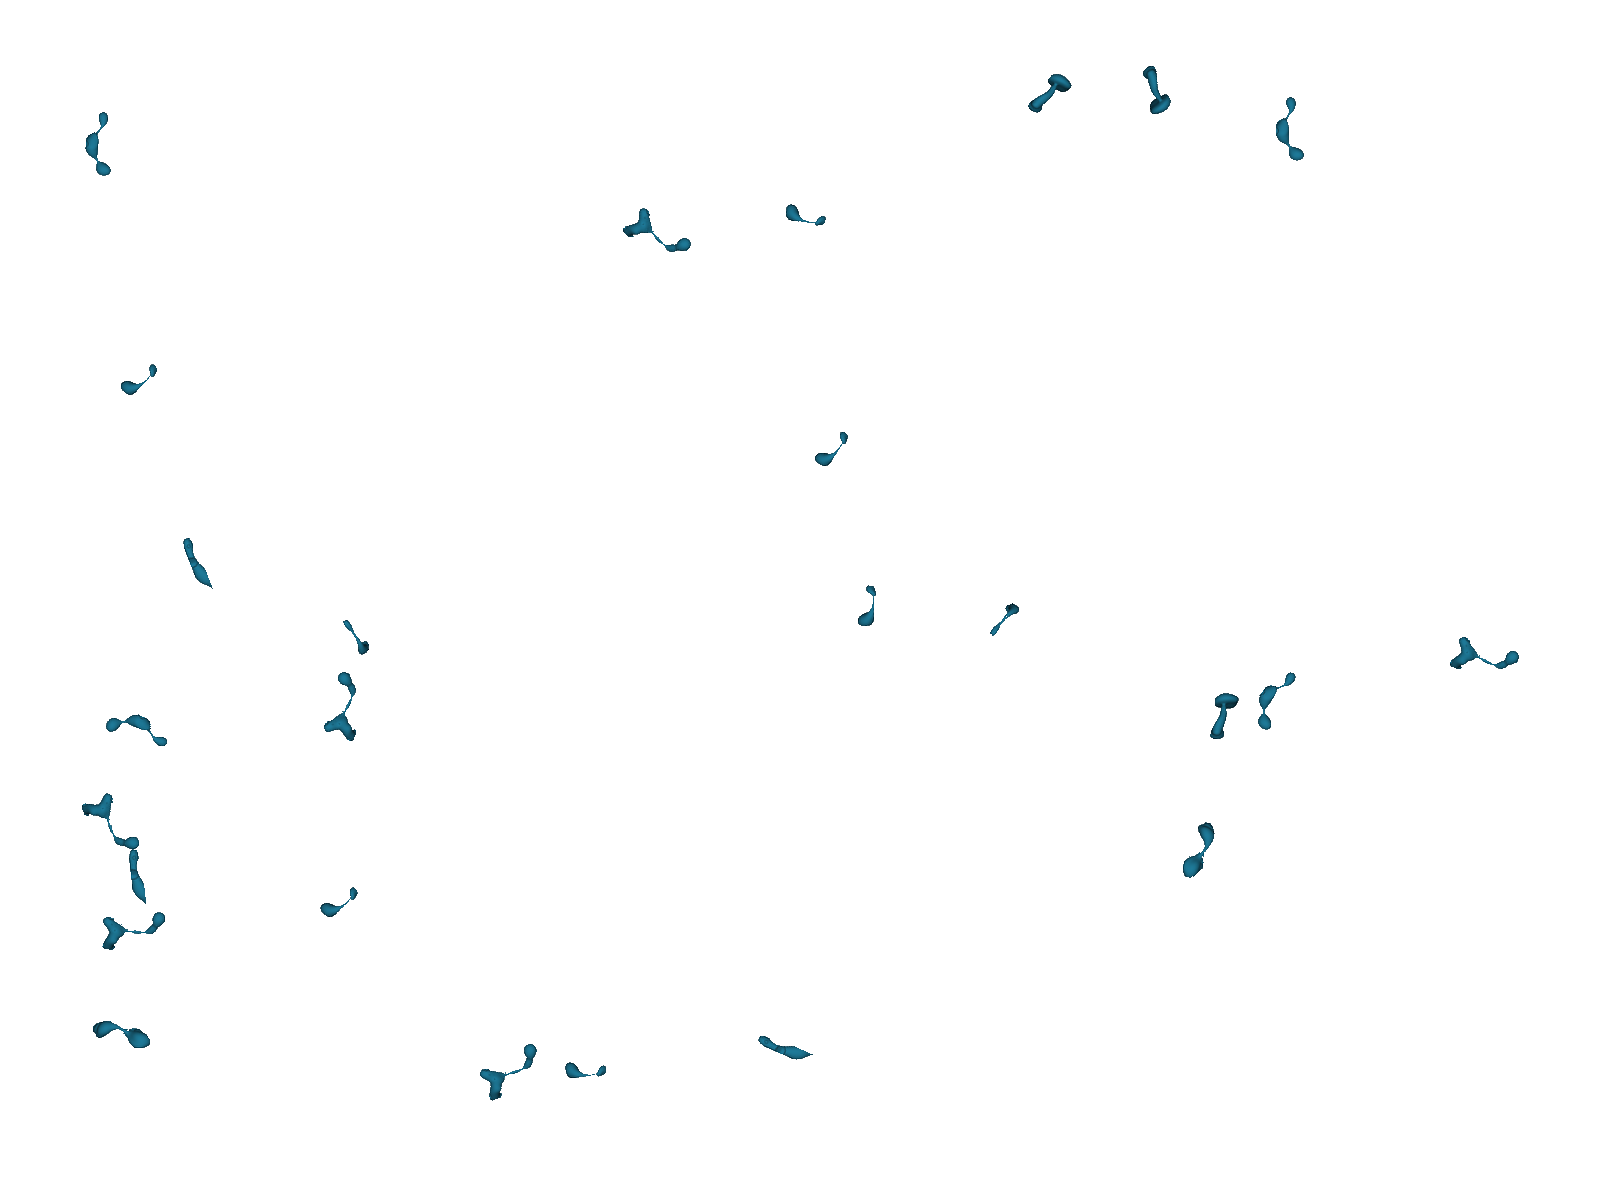Detached ligament: (617, 195, 695, 274), (1443, 623, 1523, 692), (310, 668, 379, 747), (78, 783, 144, 863), (470, 1039, 549, 1104), (1238, 662, 1306, 737), (100, 698, 175, 758), (96, 905, 168, 954), (78, 110, 118, 182), (1026, 68, 1076, 124), (1130, 62, 1175, 118), (753, 1031, 816, 1071), (1177, 818, 1217, 881), (176, 534, 214, 597), (1272, 97, 1306, 165), (810, 429, 855, 473), (91, 1020, 151, 1053), (116, 361, 163, 401), (316, 884, 363, 923), (1209, 689, 1241, 744), (335, 615, 374, 657), (985, 599, 1022, 643), (780, 200, 828, 233), (123, 848, 147, 909), (855, 584, 883, 632), (562, 1061, 607, 1082)
